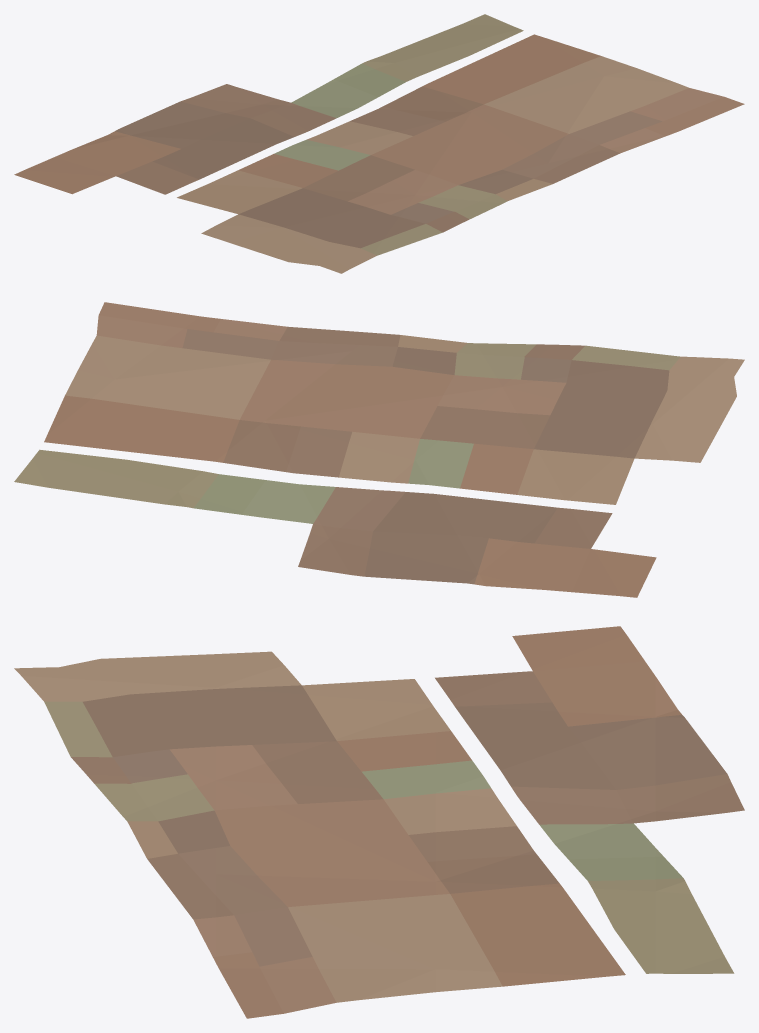
Rendered from farm_7_15_soil.glb.
3 renders of one model, top to bottom at view 1: azimuth 30°, elevation 25°; view 2: azimuth 150°, elevation 25°; view 3: azimuth 270°, elevation 25°, orthographic. The views are drawn at different scales.
Parts seen in each view (by area): view 1: geometry_0; view 2: geometry_0; view 3: geometry_0.
Part boxes in pixels (left/top/right/bottom): geometry_0: left=14, top=14, right=744, bottom=273; geometry_0: left=14, top=302, right=744, bottom=597; geometry_0: left=14, top=626, right=744, bottom=1018.
Size of the model in its own units: 362 by 18.04 by 266.
